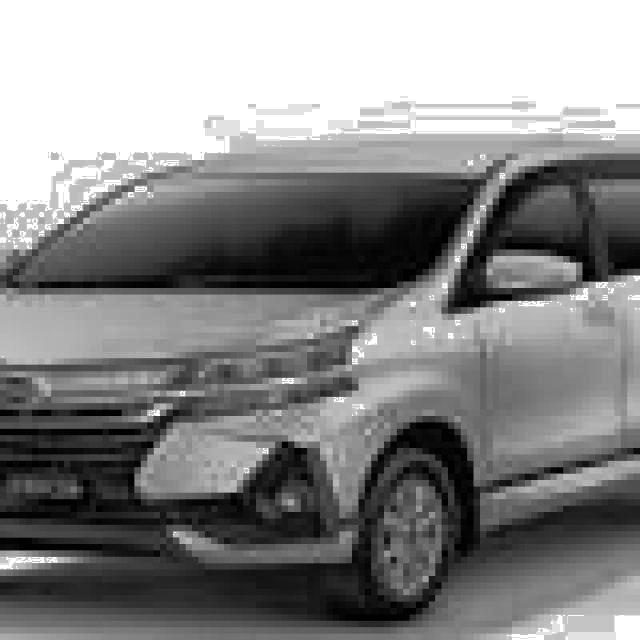Car: (0, 129, 640, 639)
